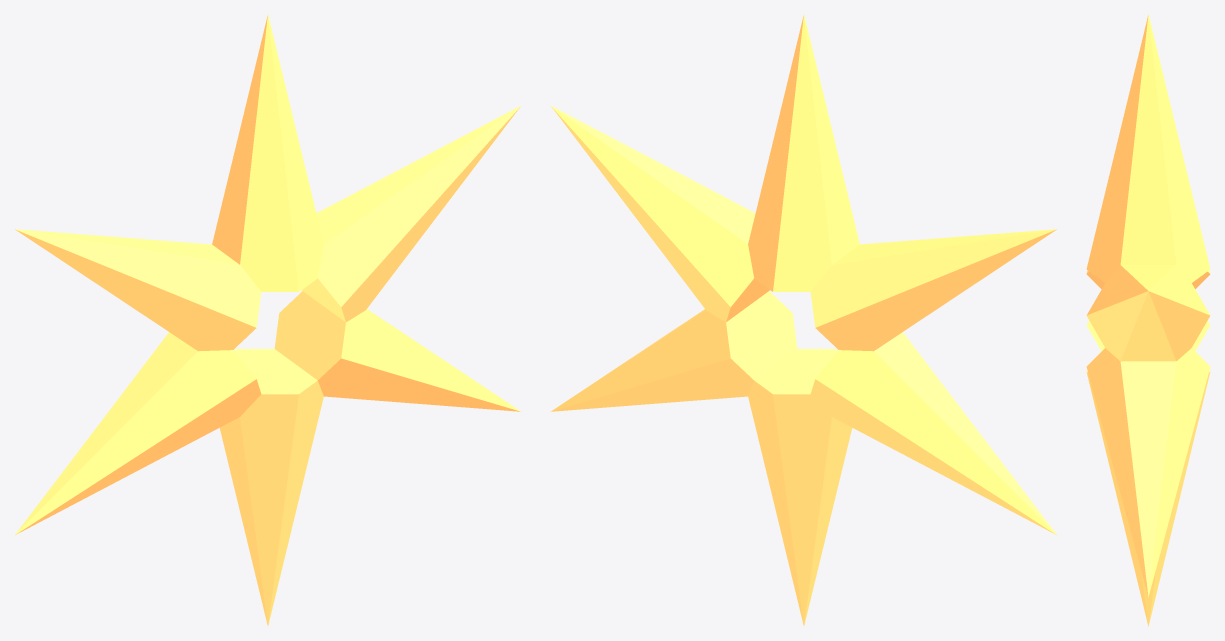
File: ember_completion_spark.glb
The picture shows the model from 3 angles, left to right: view 1: azimuth 30°, elevation 25°; view 2: azimuth 150°, elevation 25°; view 3: azimuth 270°, elevation 25°; orthographic projection.
Visible parts, largest first — view 1: Ray, Ray.004, Ray.005, Ray.001, Ray.003, Ray.002; view 2: Ray, Ray.004, Ray.005, Ray.001, Ray.003, Ray.002; view 3: Ray, Ray.002, Ray.001, Ray.003, Ray.004, Ray.005.
Boxes of the visible parts, left/top/right/bottom form: Ray: left=212, top=15, right=323, bottom=291; Ray.004: left=14, top=332, right=261, bottom=535; Ray.005: left=15, top=229, right=261, bottom=351; Ray.001: left=302, top=105, right=521, bottom=322; Ray.003: left=219, top=349, right=323, bottom=625; Ray.002: left=274, top=291, right=520, bottom=411; Ray: left=748, top=15, right=859, bottom=291; Ray.004: left=810, top=332, right=1057, bottom=535; Ray.005: left=810, top=229, right=1056, bottom=351; Ray.001: left=550, top=105, right=769, bottom=322; Ray.003: left=748, top=349, right=852, bottom=625; Ray.002: left=551, top=291, right=797, bottom=411; Ray: left=1086, top=14, right=1210, bottom=282; Ray.002: left=1086, top=348, right=1210, bottom=597; Ray.001: left=1086, top=265, right=1210, bottom=361; Ray.003: left=1086, top=371, right=1210, bottom=626; Ray.004: left=1086, top=320, right=1210, bottom=351; Ray.005: left=1086, top=270, right=1210, bottom=288.
Bounding box in the file's own units: 2.08 × 2.4 × 0.44.
